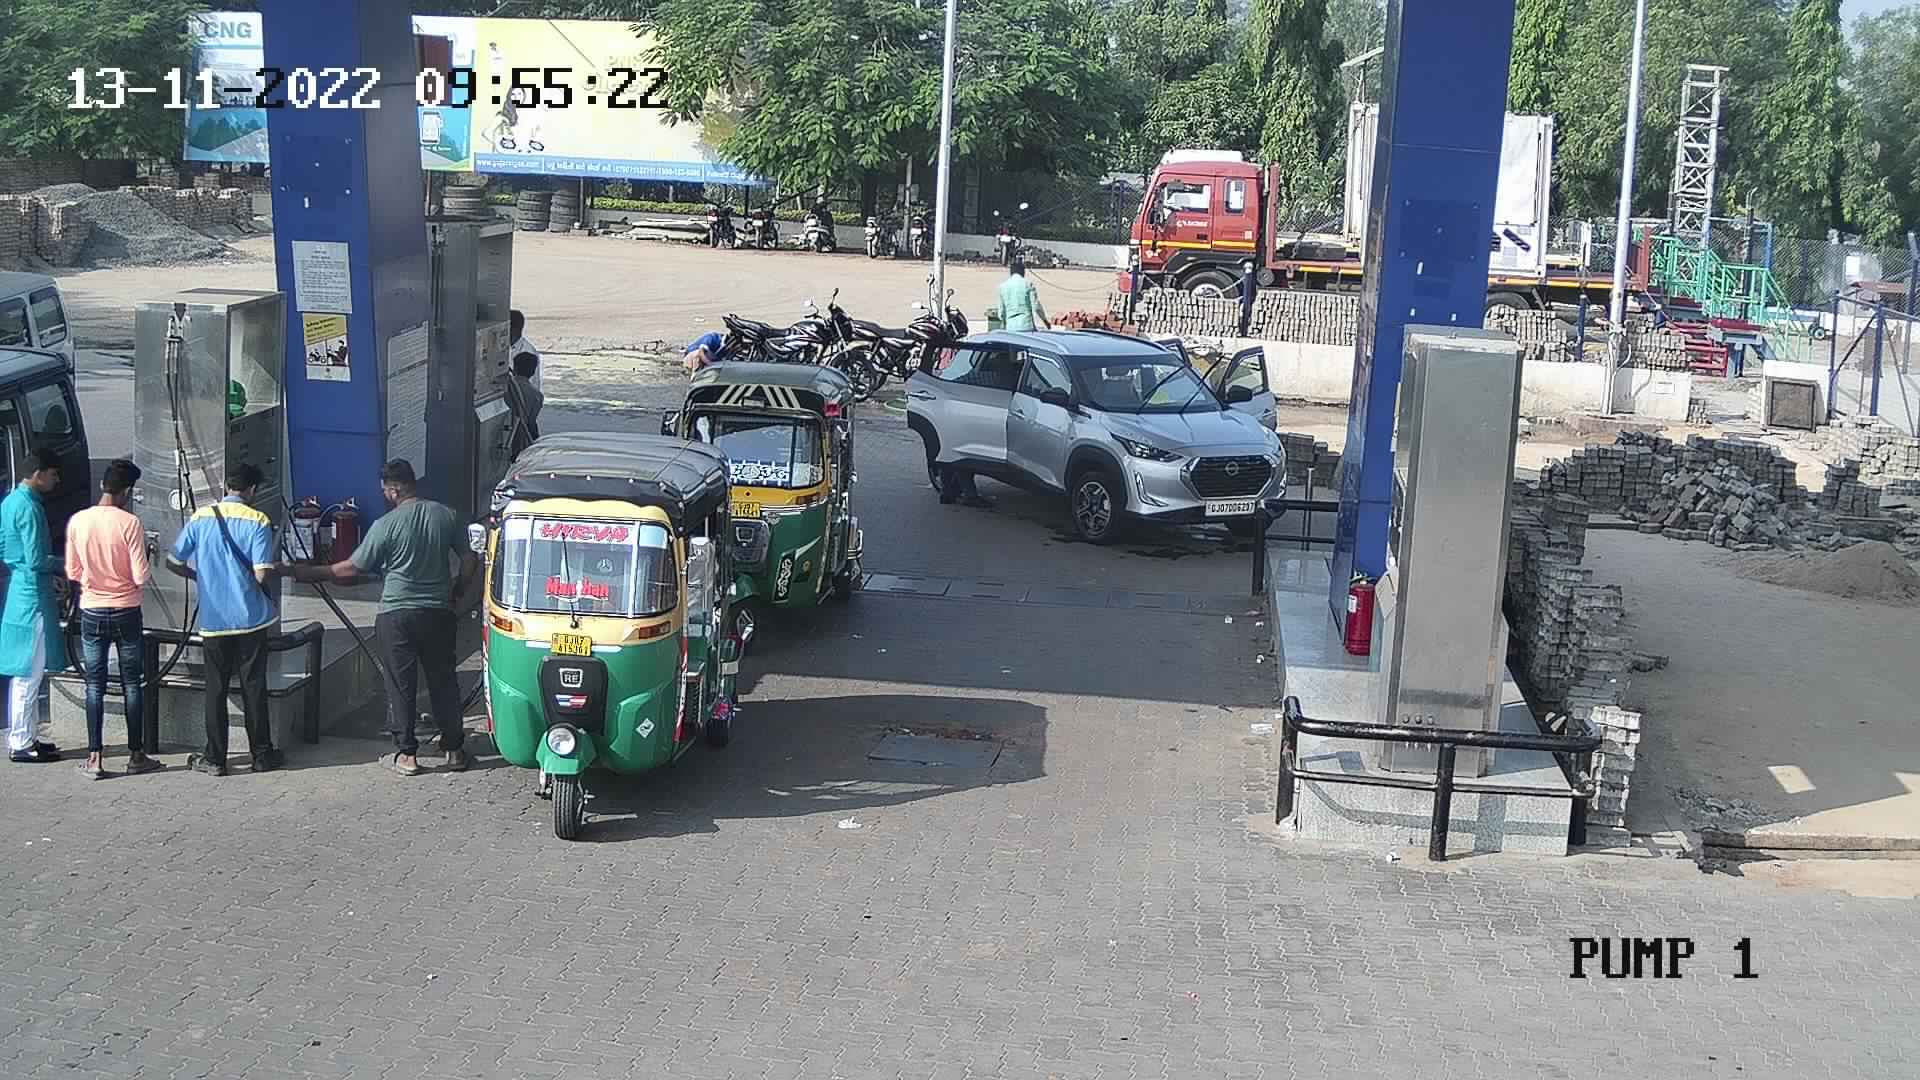Auto: (456, 422, 762, 847), (655, 353, 868, 626)
Bike: (715, 284, 891, 407), (840, 273, 975, 404), (976, 198, 1031, 266), (696, 179, 746, 251), (795, 186, 843, 252), (741, 187, 785, 251), (857, 194, 899, 257), (902, 185, 934, 264)
Car: (897, 311, 1298, 539), (1, 328, 105, 589), (0, 255, 84, 404)
HMV: (1102, 95, 1379, 334)
Others: (164, 454, 287, 781)
